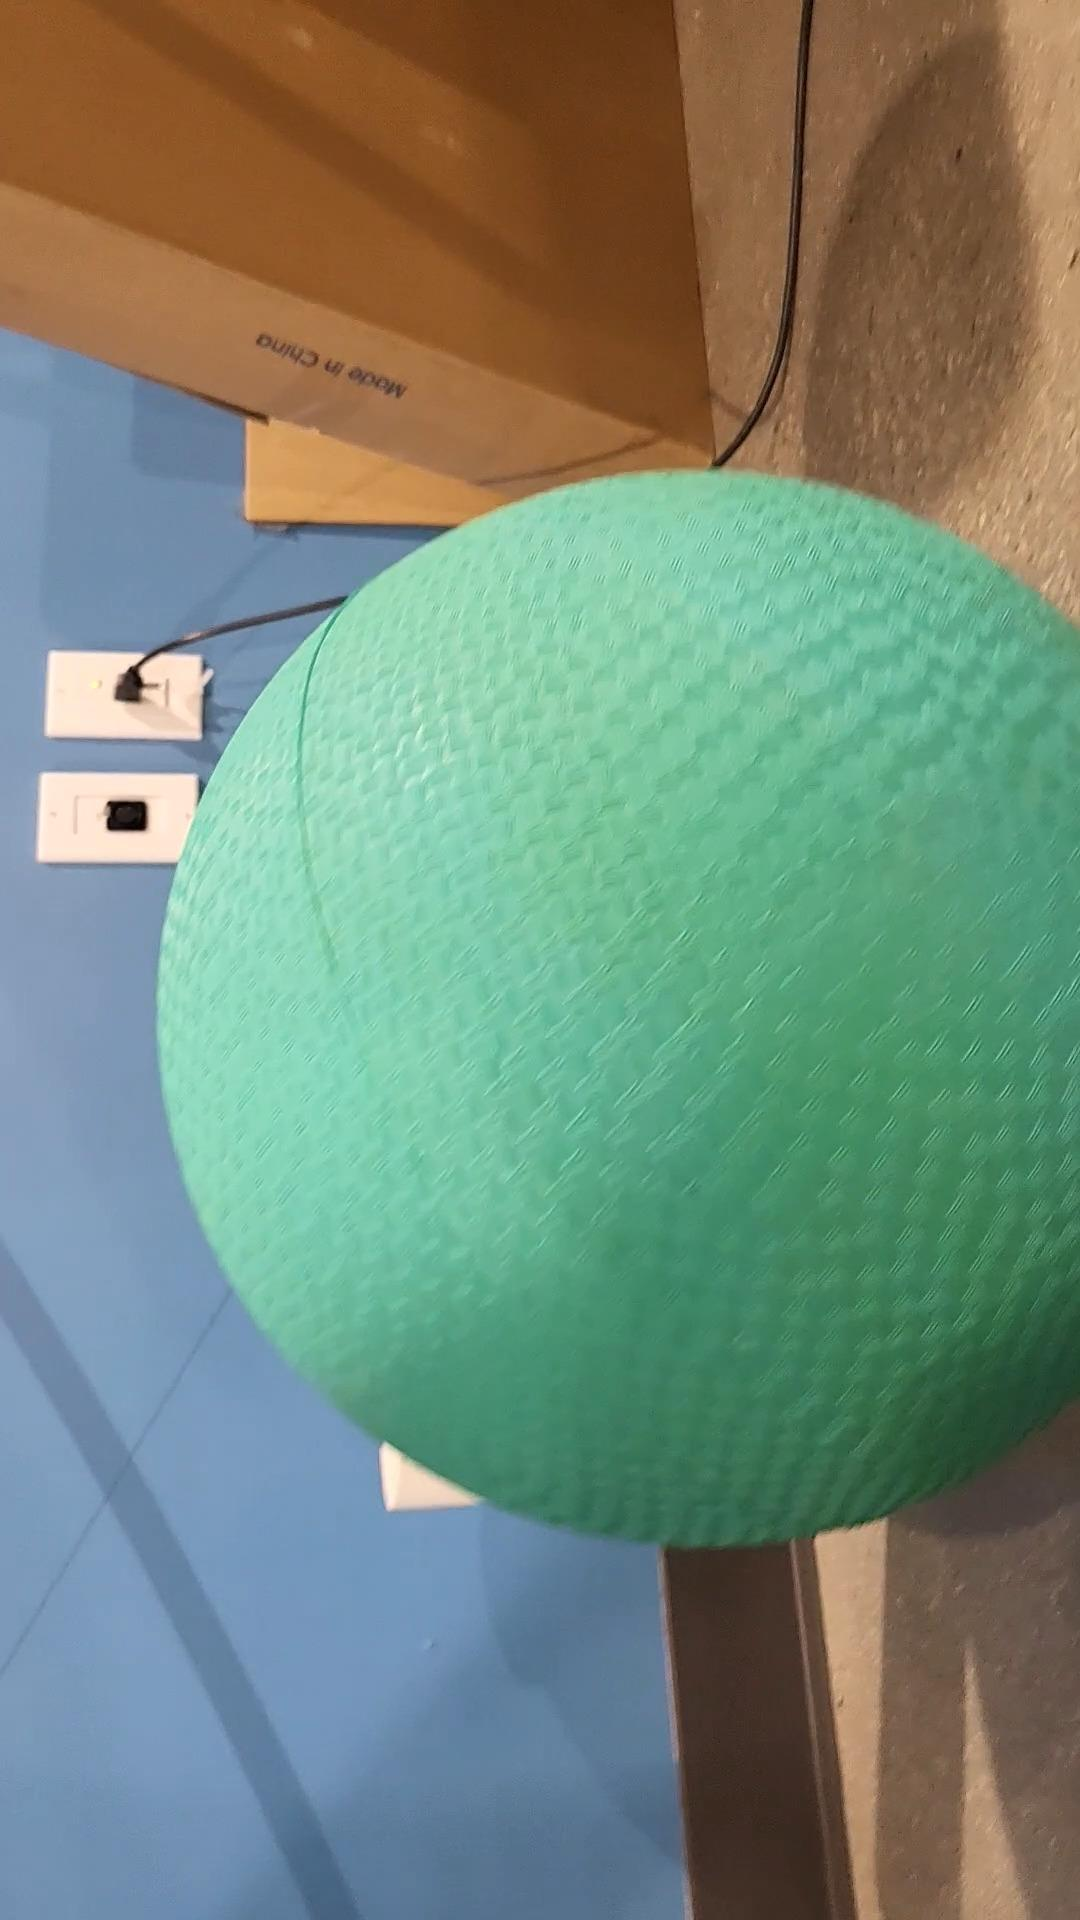algae: (165, 475, 1080, 1548)
